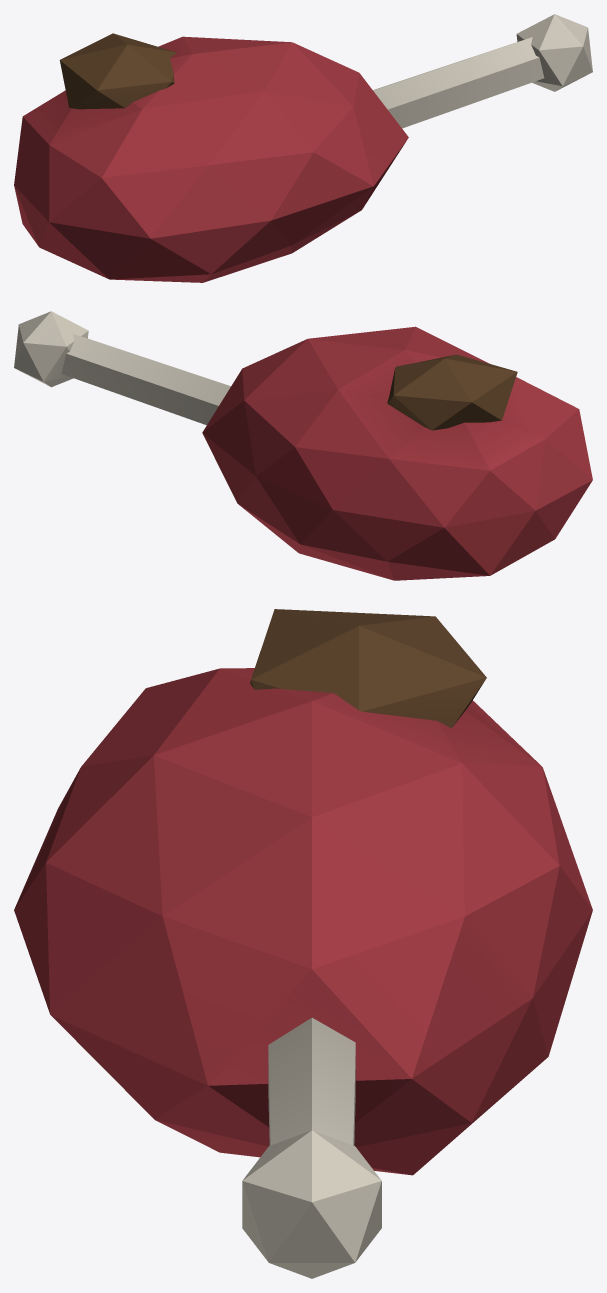
The model's file is VenisonRaw.fbx.
3 views of the same model, one above another, from view 1: azimuth 30°, elevation 25°; view 2: azimuth 150°, elevation 25°; view 3: azimuth 270°, elevation 25° (orthographic). The views are drawn at different scales.
Visible parts, largest first — view 1: VenisonRaw; view 2: VenisonRaw; view 3: VenisonRaw.
Part boxes in pixels (x1=…): VenisonRaw: x1=14, y1=14, x2=592, y2=282; VenisonRaw: x1=14, y1=311, x2=592, y2=580; VenisonRaw: x1=14, y1=609, x2=592, y2=1278.
Size of the model in its own units: 0.5295 by 0.2102 by 0.2469.
